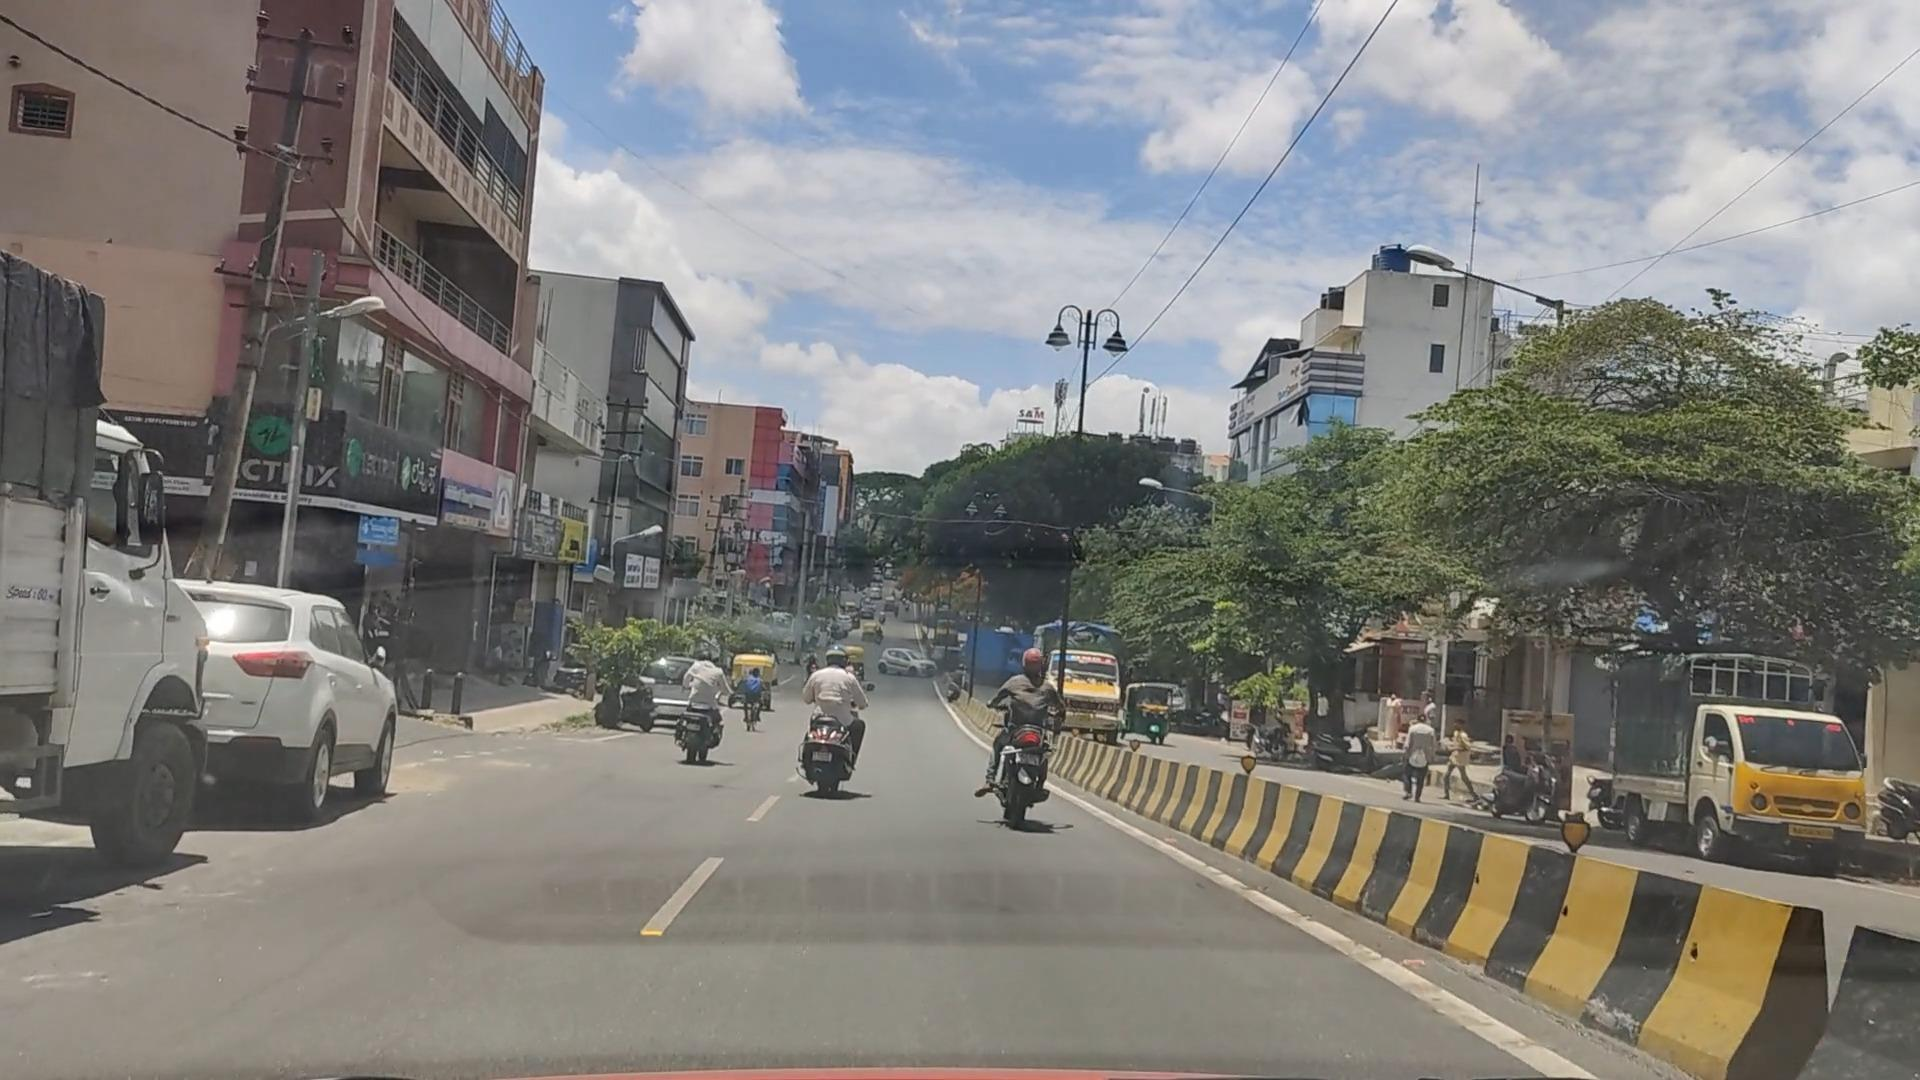HMV: (0, 255, 229, 890)
LMV: (975, 648, 1083, 852), (790, 648, 865, 816), (683, 638, 733, 778)
